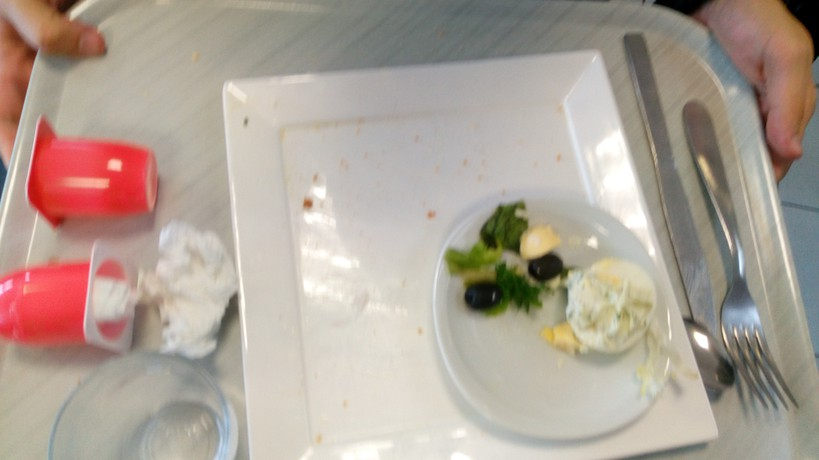orga: (441, 206, 568, 311), (574, 243, 650, 371)
trash: (17, 114, 178, 235), (144, 220, 242, 365), (4, 257, 141, 357)
